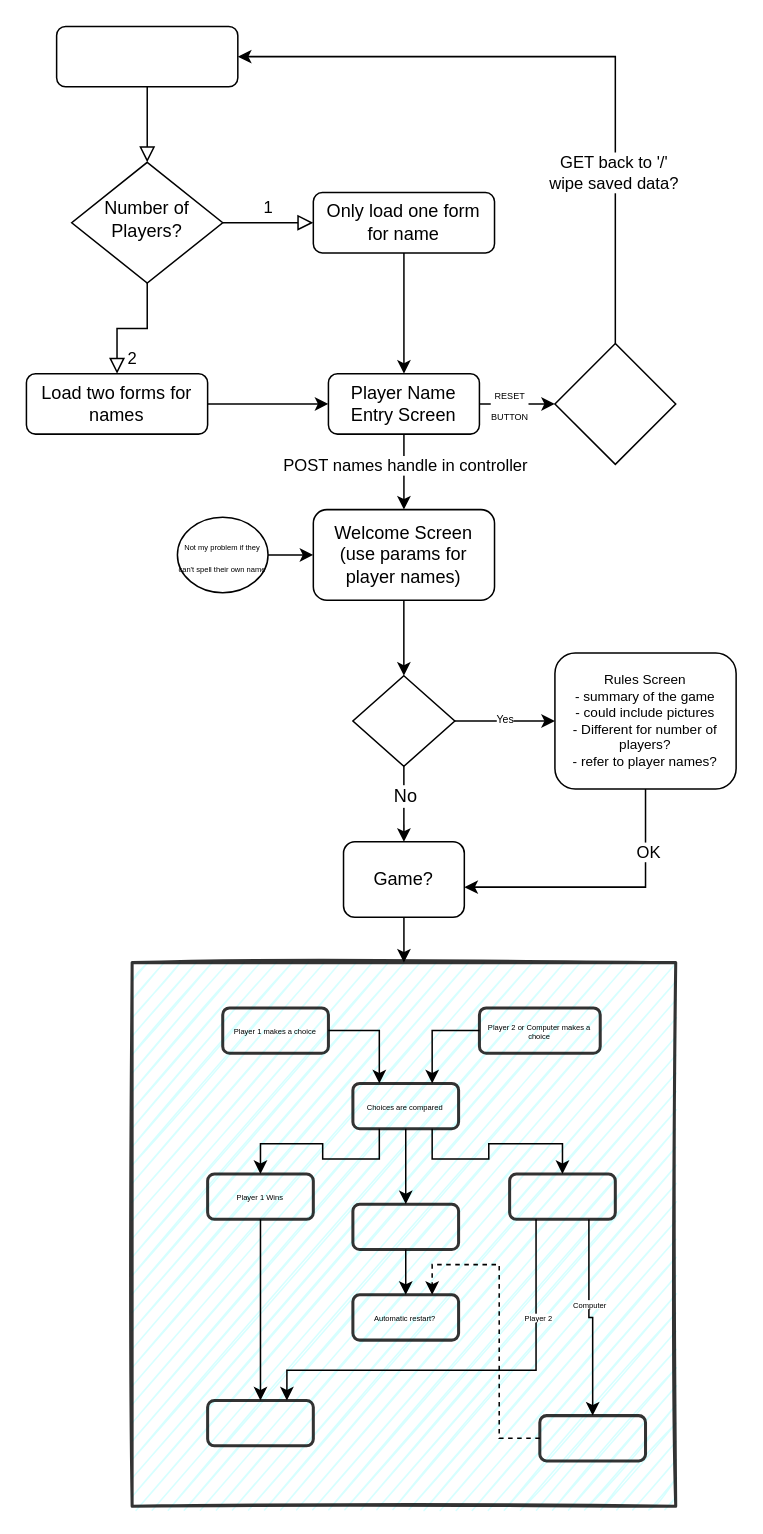
This 763x1534 diagram has some shape labels left out. The shapes that lost their labels are listed below. From the top down, each one's centre as x and y in pixels, then its label:
At [146,56]: "Start Index (Homepage)".
At [614,403]: "Reset?".
At [403,720]: "Do you need a recap of the rules?".
At [561,1196]: "Player 2 Wins (Computer or Real Player)".
At [405,1226]: "A Draw Occurs".
At [259,1422]: "Congratulations Page".
At [592,1437]: "You Lost Page 😩".
